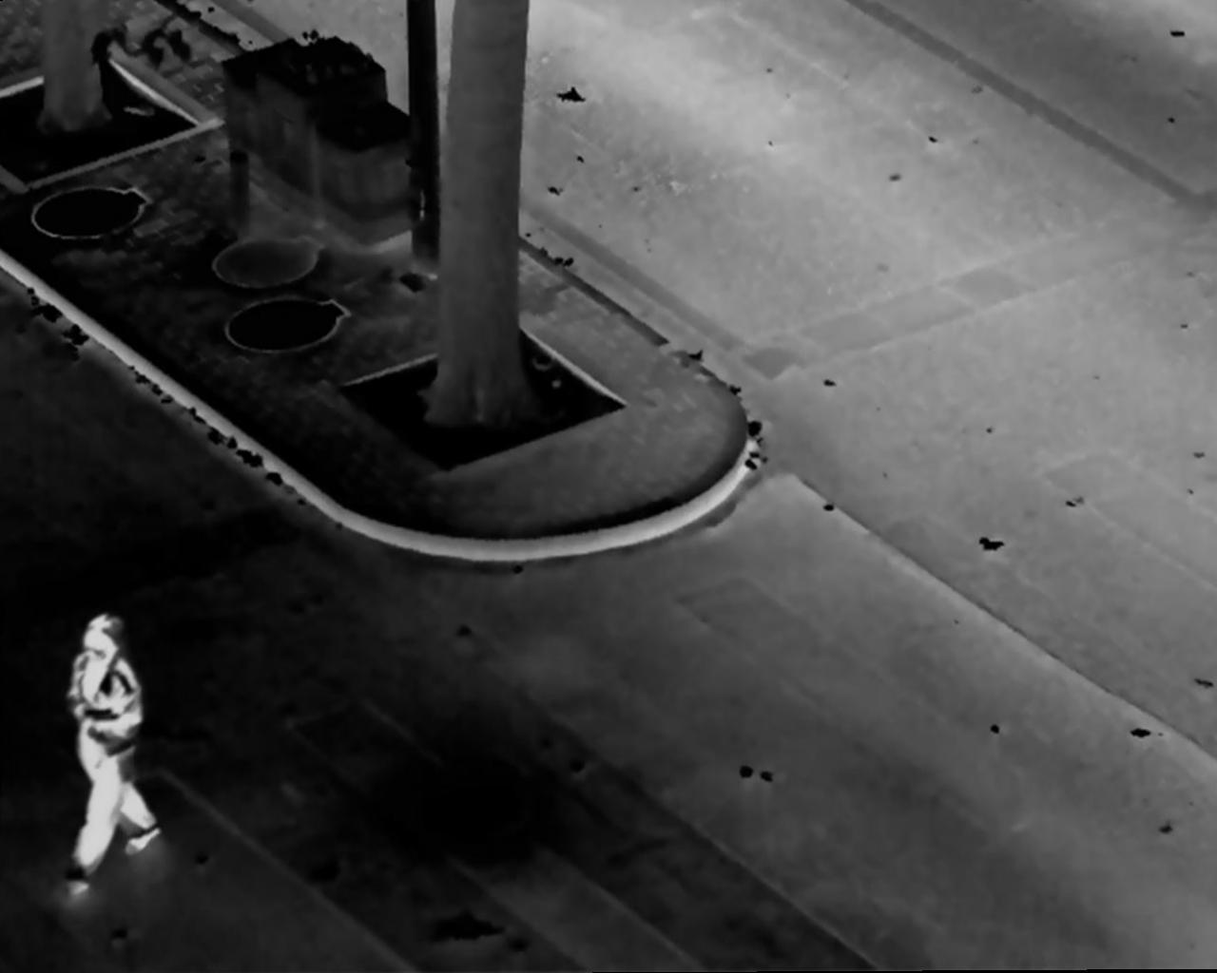person: (65, 610, 163, 907)
